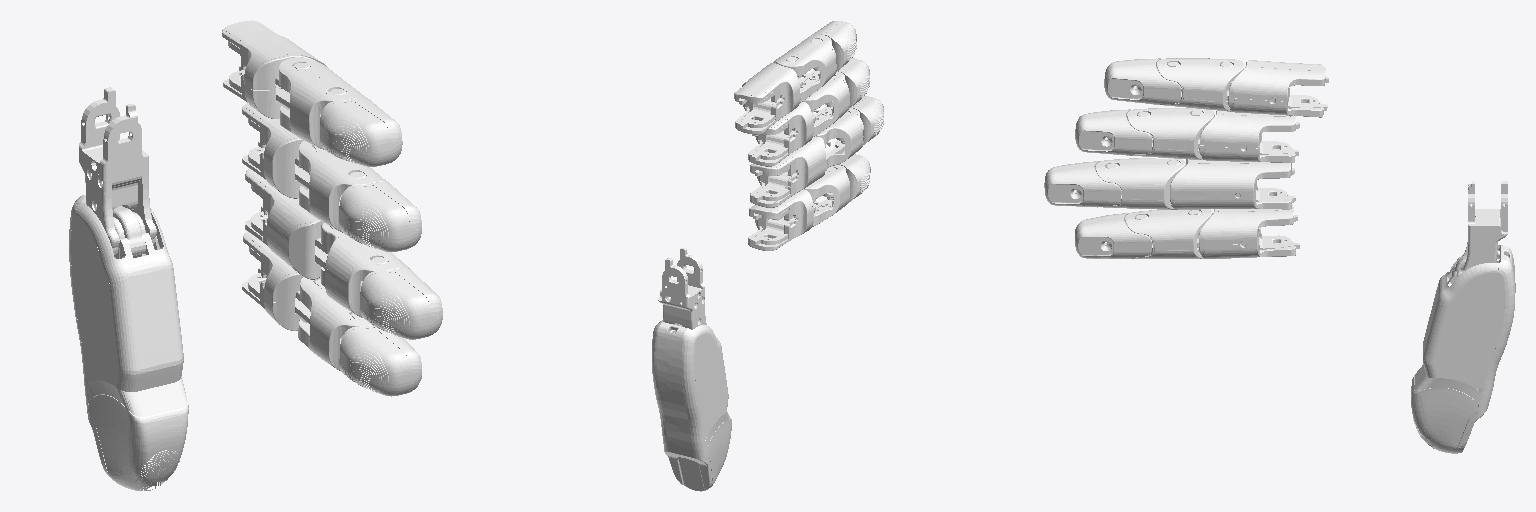
robot.urdf — CASIAHAND-M-Right:
<?xml version="1.0" encoding="utf-8"?>
<!-- This URDF was automatically created by SolidWorks to URDF Exporter! Originally created by Stephen Brawner (brawner@gmail.com) 
     Commit Version: 1.6.0-4-g7f85cfe  Build Version: 1.6.7995.38578
     For more information, please see http://wiki.ros.org/sw_urdf_exporter -->
<robot
  name="CASIAHAND-M-Right">
  
  <mujoco>
    <compiler strippath="false"/>
  </mujoco>
  
  <link name="world"/>
  <joint name="world_to_hand" type="fixed">
    <parent link="world"/>
    <child link="right_base_link"/>
    <origin xyz="0 0 0" rpy="-1.5707963 3.14 3.14"/>
  </joint>

  <link
    name="right_base_link">
    <inertial>
      <origin
        xyz="0.000857374477347777 -0.000255037676284642 0.0500099775447835"
        rpy="0 0 0" />
      <mass
        value="0.0514082505525307" />
      <inertia
        ixx="4.58943622246924E-05"
        ixy="1.12817301581069E-07"
        ixz="9.66259932783065E-08"
        iyy="2.60105566841011E-05"
        iyz="2.96081641688586E-06"
        izz="2.63254282334169E-05" />
    </inertial>
    <visual>
      <origin
        xyz="0 0 0"
        rpy="0 0 0" />
      <geometry>
        <mesh
          filename="meshes/right_base_link.STL" />
      </geometry>
      <material
        name="">
        <color
          rgba="1 1 1 1" />
      </material>
    </visual>
    <collision>
      <origin
        xyz="0 0 0"
        rpy="0 0 0" />
      <geometry>
        <mesh
          filename="meshes/right_base_link.STL" />
      </geometry>
    </collision>
  </link>
  <link
    name="right_thumb_proximal_link">
    <inertial>
      <origin
        xyz="0.00055257651455895 -0.0149644234869646 0.00352537452485624"
        rpy="0 0 0" />
      <mass
        value="0.003771210763129" />
      <inertia
        ixx="3.8851170343558E-07"
        ixy="3.74473342194864E-09"
        ixz="-1.73969258535578E-09"
        iyy="1.50699931880247E-07"
        iyz="4.85431005462431E-08"
        izz="3.95246581645573E-07" />
    </inertial>
    <visual>
      <origin
        xyz="0 0 0"
        rpy="0 0 0" />
      <geometry>
        <mesh
          filename="meshes/right_thumb_proximal_link.STL" />
      </geometry>
      <material
        name="">
        <color
          rgba="1 1 1 1" />
      </material>
    </visual>
    <collision>
      <origin
        xyz="0 0 0"
        rpy="0 0 0" />
      <geometry>
        <mesh
          filename="meshes/right_thumb_proximal_link.STL" />
      </geometry>
    </collision>
  </link>
  <joint
    name="right_thumb_proximal"
    type="revolute">
    <origin
      xyz="-0.0085316 -0.018144 0.021395"
      rpy="0 0 0" />
    <parent
      link="right_base_link" />
    <child
      link="right_thumb_proximal_link" />
    <axis
      xyz="0 0 -1" />
    <limit
      lower="0"
      upper="1.57"
      effort="0"
      velocity="0" />
  </joint>
  <link
    name="right_thumb_intermediate_link">
    <inertial>
      <origin
        xyz="0.00542003571640459 -0.0298427019949157 0.00388879536213906"
        rpy="0 0 0" />
      <mass
        value="0.0167649927929917" />
      <inertia
        ixx="5.76244391672694E-06"
        ixy="-2.73132450127489E-09"
        ixz="-9.47426351470413E-11"
        iyy="2.21367739525143E-06"
        iyz="1.4854228892227E-06"
        izz="5.11747210036071E-06" />
    </inertial>
    <visual>
      <origin
        xyz="0 0 0"
        rpy="0 0 0" />
      <geometry>
        <mesh
          filename="meshes/right_thumb_intermediate_link.STL" />
      </geometry>
      <material
        name="">
        <color
          rgba="1 1 1 1" />
      </material>
    </visual>
    <collision>
      <origin
        xyz="0 0 0"
        rpy="0 0 0" />
      <geometry>
        <mesh
          filename="meshes/right_thumb_intermediate_link.STL" />
      </geometry>
    </collision>
  </link>
  <joint
    name="right_thumb_intermediate"
    type="revolute">
    <origin
      xyz="-0.0048 -0.031252 0.0076698"
      rpy="0 0 0" />
    <parent
      link="right_thumb_proximal_link" />
    <child
      link="right_thumb_intermediate_link" />
    <axis
      xyz="-1 0 0" />
    <limit
      lower="0"
      upper="1.57"
      effort="0"
      velocity="0" />
  </joint>
  <link
    name="right_index_proximal_link">
    <inertial>
      <origin
        xyz="0.0012723171309863 0.00208807425518909 0.0132738470715957"
        rpy="0 0 0" />
      <mass
        value="0.0049222903896472" />
      <inertia
        ixx="5.50780570825401E-07"
        ixy="2.14089973135038E-10"
        ixz="-9.47210042662565E-09"
        iyy="5.28455633850817E-07"
        iyz="1.3514116775176E-10"
        izz="2.65283263041138E-07" />
    </inertial>
    <visual>
      <origin
        xyz="0 0 0"
        rpy="0 0 0" />
      <geometry>
        <mesh
          filename="meshes/right_index_proximal_link.STL" />
      </geometry>
      <material
        name="">
        <color
          rgba="1 1 1 1" />
      </material>
    </visual>
    <collision>
      <origin
        xyz="0 0 0"
        rpy="0 0 0" />
      <geometry>
        <mesh
          filename="meshes/right_index_proximal_link.STL" />
      </geometry>
    </collision>
  </link>
  <joint
    name="right_index_proximal"
    type="revolute">
    <origin
      xyz="-0.004443 -0.031233 0.10309"
      rpy="0.05236 0 0" />
    <parent
      link="right_base_link" />
    <child
      link="right_index_proximal_link" />
    <axis
      xyz="0 -1 0" />
    <limit
      lower="0"
      upper="1.57"
      effort="0"
      velocity="0" />
  </joint>
  <link
    name="right_index_intermediate_link">
    <inertial>
      <origin
        xyz="0.00235421795099238 0.0110212747844792 -0.0726408995533028"
        rpy="0 0 0" />
      <mass
        value="0.0908177066435551" />
      <inertia
        ixx="0.000303744793915056"
        ixy="-7.81479419795873E-06"
        ixz="-7.51507267532163E-07"
        iyy="0.000180060331685758"
        iyz="-4.04602154879541E-05"
        izz="0.000154612868588244" />
    </inertial>
    <visual>
      <origin
        xyz="0 0 0"
        rpy="0 0 0" />
      <geometry>
        <mesh
          filename="meshes/right_index_intermediate_link.STL" />
      </geometry>
      <material
        name="">
        <color
          rgba="1 1 1 1" />
      </material>
    </visual>
    <collision>
      <origin
        xyz="0 0 0"
        rpy="0 0 0" />
      <geometry>
        <mesh
          filename="meshes/right_index_intermediate_link.STL" />
      </geometry>
    </collision>
  </link>
  <joint
    name="right_index_intermediate"
    type="revolute">
    <origin
      xyz="0 0.0023761 0.03"
      rpy="0 0 0" />
    <parent
      link="right_index_proximal_link" />
    <child
      link="right_index_intermediate_link" />
    <axis
      xyz="0 -1 0" />
    <limit
      lower="0"
      upper="1.57"
      effort="0"
      velocity="0" />
  </joint>
  <link
    name="right_index_distal_link">
    <inertial>
      <origin
        xyz="-0.00149754162079052 -0.000369134978600888 0.0125045717606429"
        rpy="0 0 0" />
      <mass
        value="0.000998983275644339" />
      <inertia
        ixx="4.8304526286606E-08"
        ixy="2.50539798761389E-10"
        ixz="-7.15397246869542E-09"
        iyy="3.99363470051026E-08"
        iyz="-1.4606250771093E-10"
        izz="2.31496618770635E-08" />
    </inertial>
    <visual>
      <origin
        xyz="0 0 0"
        rpy="0 0 0" />
      <geometry>
        <mesh
          filename="meshes/right_index_distal_link.STL" />
      </geometry>
      <material
        name="">
        <color
          rgba="1 1 1 1" />
      </material>
    </visual>
    <collision>
      <origin
        xyz="0 0 0"
        rpy="0 0 0" />
      <geometry>
        <mesh
          filename="meshes/right_index_distal_link.STL" />
      </geometry>
    </collision>
  </link>
  <joint
    name="right_index_distal"
    type="revolute">
    <origin
      xyz="0 0 0.02"
      rpy="0 0 0" />
    <parent
      link="right_index_intermediate_link" />
    <child
      link="right_index_distal_link" />
    <axis
      xyz="0 -1 0" />
    <limit
      lower="0"
      upper="0.785"
      effort="0"
      velocity="0" />
  </joint>
  <link
    name="right_middle_proximal_link">
    <inertial>
      <origin
        xyz="0.0023542430504553 -0.00465453462000553 -0.0431944425859259"
        rpy="0 0 0" />
      <mass
        value="0.0908177066435551" />
      <inertia
        ixx="0.000303744793915068"
        ixy="-7.78380641097344E-06"
        ixz="-1.0237818538443E-06"
        iyy="0.000182851699274589"
        iyz="-3.9474093790832E-05"
        izz="0.000151821500999401" />
    </inertial>
    <visual>
      <origin
        xyz="0 0 0"
        rpy="0 0 0" />
      <geometry>
        <mesh
          filename="meshes/right_middle_proximal_link.STL" />
      </geometry>
      <material
        name="">
        <color
          rgba="1 1 1 1" />
      </material>
    </visual>
    <collision>
      <origin
        xyz="0 0 0"
        rpy="0 0 0" />
      <geometry>
        <mesh
          filename="meshes/right_middle_proximal_link.STL" />
      </geometry>
    </collision>
  </link>
  <joint
    name="right_middle_proximal"
    type="revolute">
    <origin
      xyz="-0.004443 -0.011722 0.10447"
      rpy="0.017453 0 0" />
    <parent
      link="right_base_link" />
    <child
      link="right_middle_proximal_link" />
    <axis
      xyz="0 -1 0" />
    <limit
      lower="0"
      upper="1.57"
      effort="0"
      velocity="0" />
  </joint>
  <link
    name="right_middle_intermediate_link">
    <inertial>
      <origin
        xyz="-3.94396285186005E-07 0.00136205882728671 -9.13323190965265E-08"
        rpy="0 0 0" />
      <mass
        value="0.000110030542274371" />
      <inertia
        ixx="2.19217999910624E-09"
        ixy="2.52115163653964E-13"
        ixz="-1.21978992016803E-14"
        iyy="1.64041745667729E-10"
        iyz="4.20211422340832E-14"
        izz="2.18237136869616E-09" />
    </inertial>
    <visual>
      <origin
        xyz="0 0 0"
        rpy="0 0 0" />
      <geometry>
        <mesh
          filename="meshes/right_middle_intermediate_link.STL" />
      </geometry>
      <material
        name="">
        <color
          rgba="1 1 1 1" />
      </material>
    </visual>
    <collision>
      <origin
        xyz="0 0 0"
        rpy="0 0 0" />
      <geometry>
        <mesh
          filename="meshes/right_middle_intermediate_link.STL" />
      </geometry>
    </collision>
  </link>
  <joint
    name="right_middle_intermediate"
    type="revolute">
    <origin
      xyz="0 0.003479 0.037"
      rpy="0 0 0" />
    <parent
      link="right_middle_proximal_link" />
    <child
      link="right_middle_intermediate_link" />
    <axis
      xyz="0 -1 0" />
    <limit
      lower="0"
      upper="1.57"
      effort="0"
      velocity="0" />
  </joint>
  <link
    name="right_middle_distal_link">
    <inertial>
      <origin
        xyz="-0.00149761454384948 -0.000384090561621146 0.0125045414889741"
        rpy="0 0 0" />
      <mass
        value="0.000998993078309279" />
      <inertia
        ixx="4.8305910861742E-08"
        ixy="2.50146892050906E-10"
        ixz="-7.15461365443449E-09"
        iyy="3.99381040722907E-08"
        iyz="-1.46109122439899E-10"
        izz="2.31496659902899E-08" />
    </inertial>
    <visual>
      <origin
        xyz="0 0 0"
        rpy="0 0 0" />
      <geometry>
        <mesh
          filename="meshes/right_middle_distal_link.STL" />
      </geometry>
      <material
        name="">
        <color
          rgba="1 1 1 1" />
      </material>
    </visual>
    <collision>
      <origin
        xyz="0 0 0"
        rpy="0 0 0" />
      <geometry>
        <mesh
          filename="meshes/right_middle_distal_link.STL" />
      </geometry>
    </collision>
  </link>
  <joint
    name="right_middle_distal"
    type="revolute">
    <origin
      xyz="0 -0.000975 0.023"
      rpy="0 0 0" />
    <parent
      link="right_middle_intermediate_link" />
    <child
      link="right_middle_distal_link" />
    <axis
      xyz="0 -1 0" />
    <limit
      lower="0"
      upper="0.785"
      effort="0"
      velocity="0" />
  </joint>
  <link
    name="right_ring_proximal_link">
    <inertial>
      <origin
        xyz="0.00127231640844096 0.00208808324218729 0.0132738449524985"
        rpy="0 0 0" />
      <mass
        value="0.00492229142454756" />
      <inertia
        ixx="5.5078049912234E-07"
        ixy="2.14033649495646E-10"
        ixz="-9.47215086599543E-09"
        iyy="5.2845576034205E-07"
        iyz="1.3525638175598E-10"
        izz="2.65283240490032E-07" />
    </inertial>
    <visual>
      <origin
        xyz="0 0 0"
        rpy="0 0 0" />
      <geometry>
        <mesh
          filename="meshes/right_ring_proximal_link.STL" />
      </geometry>
      <material
        name="">
        <color
          rgba="1 1 1 1" />
      </material>
    </visual>
    <collision>
      <origin
        xyz="0 0 0"
        rpy="0 0 0" />
      <geometry>
        <mesh
          filename="meshes/right_ring_proximal_link.STL" />
      </geometry>
    </collision>
  </link>
  <joint
    name="right_ring_proximal"
    type="revolute">
    <origin
      xyz="-0.004443 0.0077684 0.10295"
      rpy="-0.017453 0 0" />
    <parent
      link="right_base_link" />
    <child
      link="right_ring_proximal_link" />
    <axis
      xyz="0 -1 0" />
    <limit
      lower="0"
      upper="1.57"
      effort="0"
      velocity="0" />
  </joint>
  <link
    name="right_ring_intermediate_link">
    <inertial>
      <origin
        xyz="0.0023542179510049 -0.0250345383724497 -0.0721455669598552"
        rpy="0 0 0" />
      <mass
        value="0.0908177066435551" />
      <inertia
        ixx="0.000303744793915058"
        ixy="-7.74333525504984E-06"
        ixz="-1.29480911971742E-06"
        iyy="0.00018556747885998"
        iyz="-3.82956582766933E-05"
        izz="0.000149105721414021" />
    </inertial>
    <visual>
      <origin
        xyz="0 0 0"
        rpy="0 0 0" />
      <geometry>
        <mesh
          filename="meshes/right_ring_intermediate_link.STL" />
      </geometry>
      <material
        name="">
        <color
          rgba="1 1 1 1" />
      </material>
    </visual>
    <collision>
      <origin
        xyz="0 0 0"
        rpy="0 0 0" />
      <geometry>
        <mesh
          filename="meshes/right_ring_intermediate_link.STL" />
      </geometry>
    </collision>
  </link>
  <joint
    name="right_ring_intermediate"
    type="revolute">
    <origin
      xyz="0 0.0023761 0.03"
      rpy="0 0 0" />
    <parent
      link="right_ring_proximal_link" />
    <child
      link="right_ring_intermediate_link" />
    <axis
      xyz="0 -1 0" />
    <limit
      lower="0"
      upper="1.57"
      effort="0"
      velocity="0" />
  </joint>
  <link
    name="right_ring_distal_link">
    <inertial>
      <origin
        xyz="-0.00149758253866878 -0.000369143989016842 0.0125045252537998"
        rpy="0 0 0" />
      <mass
        value="0.00099898886885545" />
      <inertia
        ixx="4.83054514978101E-08"
        ixy="2.50406633524093E-10"
        ixz="-7.15450000381958E-09"
        iyy="3.99377033108442E-08"
        iyz="-1.4616697062104E-10"
        izz="2.31495966477357E-08" />
    </inertial>
    <visual>
      <origin
        xyz="0 0 0"
        rpy="0 0 0" />
      <geometry>
        <mesh
          filename="meshes/right_ring_distal_link.STL" />
      </geometry>
      <material
        name="">
        <color
          rgba="1 1 1 1" />
      </material>
    </visual>
    <collision>
      <origin
        xyz="0 0 0"
        rpy="0 0 0" />
      <geometry>
        <mesh
          filename="meshes/right_ring_distal_link.STL" />
      </geometry>
    </collision>
  </link>
  <joint
    name="right_ring_distal"
    type="revolute">
    <origin
      xyz="0 0 0.02"
      rpy="0 0 0" />
    <parent
      link="right_ring_intermediate_link" />
    <child
      link="right_ring_distal_link" />
    <axis
      xyz="0 -1 0" />
    <limit
      lower="0"
      upper="0.785"
      effort="0"
      velocity="0" />
  </joint>
  <link
    name="right_pinky_proximal_link">
    <inertial>
      <origin
        xyz="0.00127231581165713 0.00219956871825452 0.0132738481954718"
        rpy="0 0 0" />
      <mass
        value="0.00492229063382258" />
      <inertia
        ixx="5.50780458518458E-07"
        ixy="2.10989258136176E-10"
        ixz="-9.47216267094008E-09"
        iyy="5.2845577268566E-07"
        iyz="5.22551582816054E-11"
        izz="2.65283219644488E-07" />
    </inertial>
    <visual>
      <origin
        xyz="0 0 0"
        rpy="0 0 0" />
      <geometry>
        <mesh
          filename="meshes/right_pinky_proximal_link.STL" />
      </geometry>
      <material
        name="">
        <color
          rgba="1 1 1 1" />
      </material>
    </visual>
    <collision>
      <origin
        xyz="0 0 0"
        rpy="0 0 0" />
      <geometry>
        <mesh
          filename="meshes/right_pinky_proximal_link.STL" />
      </geometry>
    </collision>
  </link>
  <joint
    name="right_pinky_proximal"
    type="revolute">
    <origin
      xyz="-0.004443 0.02678 0.092207"
      rpy="-0.05236 0 0" />
    <parent
      link="right_base_link" />
    <child
      link="right_pinky_proximal_link" />
    <axis
      xyz="0 -1 0" />
    <limit
      lower="0"
      upper="1.57"
      effort="0"
      velocity="0" />
  </joint>
  <link
    name="right_pinky_intermediate_link">
    <inertial>
      <origin
        xyz="0.00235421795241641 -0.0431944522960976 -0.0631930020906728"
        rpy="0 0 0" />
      <mass
        value="0.0908177066435551" />
      <inertia
        ixx="0.000303744793915021"
        ixy="-7.69293647544505E-06"
        ixz="-1.56668437074925E-06"
        iyy="0.000188217722315163"
        iyz="-3.6917490684492E-05"
        izz="0.000146455477958875" />
    </inertial>
    <visual>
      <origin
        xyz="0 0 0"
        rpy="0 0 0" />
      <geometry>
        <mesh
          filename="meshes/right_pinky_intermediate_link.STL" />
      </geometry>
      <material
        name="">
        <color
          rgba="1 1 1 1" />
      </material>
    </visual>
    <collision>
      <origin
        xyz="0 0 0"
        rpy="0 0 0" />
      <geometry>
        <mesh
          filename="meshes/right_pinky_intermediate_link.STL" />
      </geometry>
    </collision>
  </link>
  <joint
    name="right_pinky_intermediate"
    type="revolute">
    <origin
      xyz="0 0.0024929 0.03"
      rpy="-0.00031528 0 0" />
    <parent
      link="right_pinky_proximal_link" />
    <child
      link="right_pinky_intermediate_link" />
    <axis
      xyz="0 -1 0" />
    <limit
      lower="0"
      upper="1.57"
      effort="0"
      velocity="0" />
  </joint>
  <link
    name="right_pinky_distal_link">
    <inertial>
      <origin
        xyz="-0.00149759710196606 -0.000369147991352448 0.0125045138962327"
        rpy="0 0 0" />
      <mass
        value="0.0009989903034138" />
      <inertia
        ixx="4.83055203733446E-08"
        ixy="2.50392864148638E-10"
        ixz="-7.15458833615349E-09"
        iyy="3.99378845855336E-08"
        iyz="-1.46151051158585E-10"
        izz="2.3149585824179E-08" />
    </inertial>
    <visual>
      <origin
        xyz="0 0 0"
        rpy="0 0 0" />
      <geometry>
        <mesh
          filename="meshes/right_pinky_distal_link.STL" />
      </geometry>
      <material
        name="">
        <color
          rgba="1 1 1 1" />
      </material>
    </visual>
    <collision>
      <origin
        xyz="0 0 0"
        rpy="0 0 0" />
      <geometry>
        <mesh
          filename="meshes/right_pinky_distal_link.STL" />
      </geometry>
    </collision>
  </link>
  <joint
    name="right_pinky_distal"
    type="revolute">
    <origin
      xyz="0 0 0.02"
      rpy="0 0 0" />
    <parent
      link="right_pinky_intermediate_link" />
    <child
      link="right_pinky_distal_link" />
    <axis
      xyz="0 -1 0" />
    <limit
      lower="0"
      upper="0.785"
      effort="0"
      velocity="0" />
  </joint>

  <link name="right_thumb_tip_head"/>
  <link name="right_index_tip_head"/>
  <link name="right_middle_tip_head"/>
  <link name="right_ring_tip_head"/>
  <link name="right_pinky_tip_head"/>

  <joint name="thumb_tip" type="fixed">
    <parent link="right_thumb_intermediate_link"/>
    <child link="right_thumb_tip_head"/>
    <origin rpy="0 0 0" xyz="0.006 -0.06 0.030"/>
  </joint>
  <joint name="index_tip" type="fixed">
    <parent link="right_index_distal_link"/>
    <child link="right_index_tip_head"/>
    <origin rpy="0 0 0" xyz="0.0 0.0 0.026"/>
  </joint>
  <joint name="middle_tip" type="fixed">
    <parent link="right_middle_distal_link"/>
    <child link="right_middle_tip_head"/>
    <origin rpy="0 0 0" xyz="0.0 0.0 0.026"/>
  </joint>
  <joint name="ring_tip" type="fixed">
    <parent link="right_ring_distal_link"/>
    <child link="right_ring_tip_head"/>
    <origin rpy="0 0 0" xyz="0.0 0.0 0.026"/>
  </joint>
  <joint name="pinky_tip" type="fixed">
    <parent link="right_pinky_distal_link"/>
    <child link="right_pinky_tip_head"/>
    <origin rpy="0 0 0" xyz="0.0 0.0 0.026"/>
  </joint>

</robot>

--- Render facts (derived) ---
3 views of the same robot in one strip: view 1: azimuth 30°, elevation 25°; view 2: azimuth 150°, elevation 25°; view 3: azimuth 270°, elevation 25° (orthographic).
Model CASIAHAND-M-Right with 21 links and 20 joints (14 revolute, 6 fixed), rooted at world, posed all joints at 0.
Visible links, largest first — view 1: right_thumb_intermediate_link, right_thumb_proximal_link, right_pinky_proximal_link, right_middle_proximal_link, right_middle_distal_link, right_ring_distal_link, right_pinky_distal_link, right_index_distal_link, right_pinky_intermediate_link, right_middle_intermediate_link, right_ring_intermediate_link, right_index_proximal_link (+2 smaller); view 2: right_thumb_intermediate_link, right_pinky_proximal_link, right_middle_proximal_link, right_thumb_proximal_link, right_index_proximal_link, right_ring_proximal_link, right_pinky_intermediate_link, right_middle_intermediate_link, right_index_intermediate_link, right_ring_intermediate_link, right_pinky_distal_link, right_ring_distal_link (+2 smaller); view 3: right_thumb_intermediate_link, right_middle_proximal_link, right_pinky_proximal_link, right_index_proximal_link, right_ring_proximal_link, right_middle_intermediate_link, right_pinky_intermediate_link, right_ring_intermediate_link, right_index_intermediate_link, right_pinky_distal_link, right_ring_distal_link, right_index_distal_link (+2 smaller).
Boxes of the visible links, left/top/right/bottom form: right_thumb_intermediate_link: left=69, top=195, right=188, bottom=490; right_thumb_proximal_link: left=79, top=87, right=156, bottom=257; right_pinky_proximal_link: left=222, top=20, right=326, bottom=118; right_middle_proximal_link: left=245, top=168, right=329, bottom=279; right_middle_distal_link: left=360, top=265, right=442, bottom=339; right_ring_distal_link: left=339, top=182, right=421, bottom=251; right_pinky_distal_link: left=320, top=98, right=402, bottom=166; right_index_distal_link: left=339, top=326, right=421, bottom=396; right_pinky_intermediate_link: left=279, top=57, right=366, bottom=149; right_middle_intermediate_link: left=321, top=223, right=407, bottom=317; right_ring_intermediate_link: left=299, top=141, right=386, bottom=232; right_index_proximal_link: left=242, top=231, right=310, bottom=330; right_thumb_intermediate_link: left=652, top=320, right=731, bottom=491; right_pinky_proximal_link: left=734, top=63, right=802, bottom=134; right_middle_proximal_link: left=750, top=136, right=825, bottom=207; right_thumb_proximal_link: left=658, top=248, right=706, bottom=329; right_index_proximal_link: left=748, top=189, right=815, bottom=250; right_ring_proximal_link: left=748, top=102, right=815, bottom=166; right_pinky_intermediate_link: left=773, top=35, right=836, bottom=102; right_middle_intermediate_link: left=816, top=108, right=863, bottom=170; right_index_intermediate_link: left=804, top=165, right=849, bottom=226; right_ring_intermediate_link: left=803, top=71, right=849, bottom=136; right_pinky_distal_link: left=803, top=21, right=856, bottom=71; right_ring_distal_link: left=825, top=58, right=869, bottom=107; right_thumb_intermediate_link: left=1411, top=245, right=1515, bottom=453; right_middle_proximal_link: left=1170, top=159, right=1295, bottom=209; right_pinky_proximal_link: left=1226, top=60, right=1328, bottom=117; right_index_proximal_link: left=1197, top=205, right=1299, bottom=258; right_ring_proximal_link: left=1198, top=111, right=1299, bottom=162; right_middle_intermediate_link: left=1095, top=158, right=1185, bottom=209; right_pinky_intermediate_link: left=1156, top=58, right=1243, bottom=111; right_ring_intermediate_link: left=1127, top=108, right=1214, bottom=159; right_index_intermediate_link: left=1125, top=209, right=1212, bottom=258; right_pinky_distal_link: left=1104, top=58, right=1181, bottom=104; right_ring_distal_link: left=1075, top=109, right=1152, bottom=155; right_index_distal_link: left=1075, top=213, right=1152, bottom=258.
Bounding box of the posed robot: 0.0251 × 0.1768 × 0.1623 m (x, y, z).
14 mesh visuals loaded from 15 distinct referenced files (14 binary STL); not drawn: 1 (reference not matched to a file when rendering).
